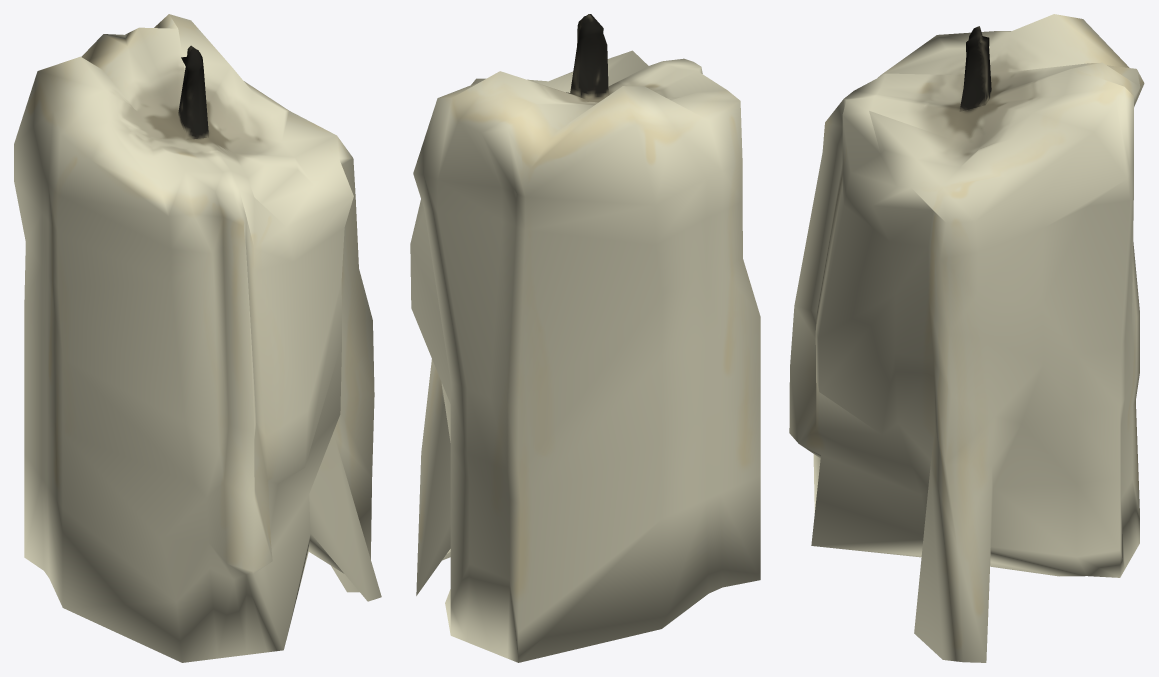
Rendered from Candle_Small.fbx.
3 renders of one model, left to right at view 1: azimuth 30°, elevation 25°; view 2: azimuth 150°, elevation 25°; view 3: azimuth 270°, elevation 25°, orthographic. The views are drawn at different scales.
Parts seen in each view (by area): view 1: Candel_Small; view 2: Candel_Small; view 3: Candel_Small.
Boxes of the visible parts, left/top/right/bottom form: Candel_Small: left=14, top=14, right=381, bottom=662; Candel_Small: left=410, top=14, right=760, bottom=662; Candel_Small: left=789, top=14, right=1144, bottom=662.
Bounding box in the file's own units: 8 × 14.19 × 8.12.
